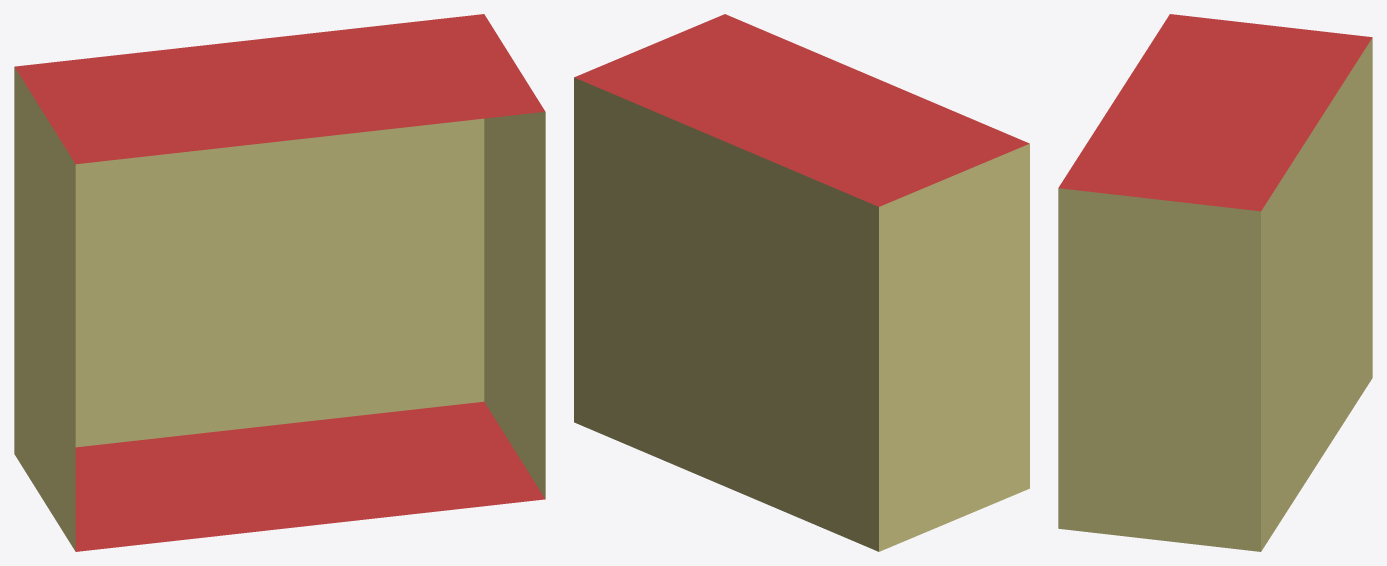
3 renders of one model, left to right at view 1: azimuth 30°, elevation 25°; view 2: azimuth 150°, elevation 25°; view 3: azimuth 270°, elevation 25°, orthographic. The views are drawn at different scales.
Size of the model in its own units: 6.27 by 4.22 by 5.04.
